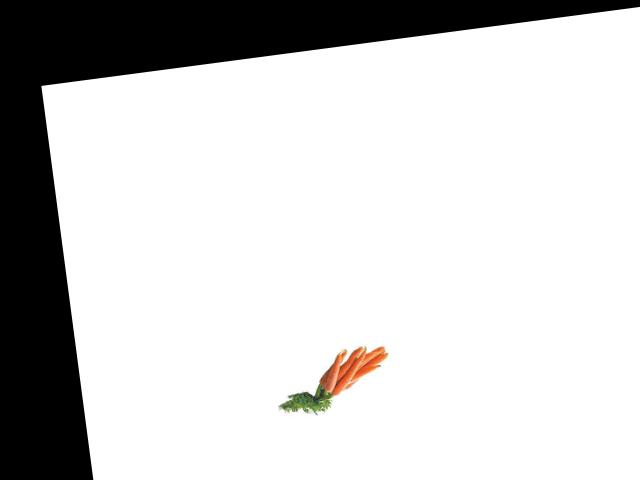carrot: (313, 338, 343, 390)
